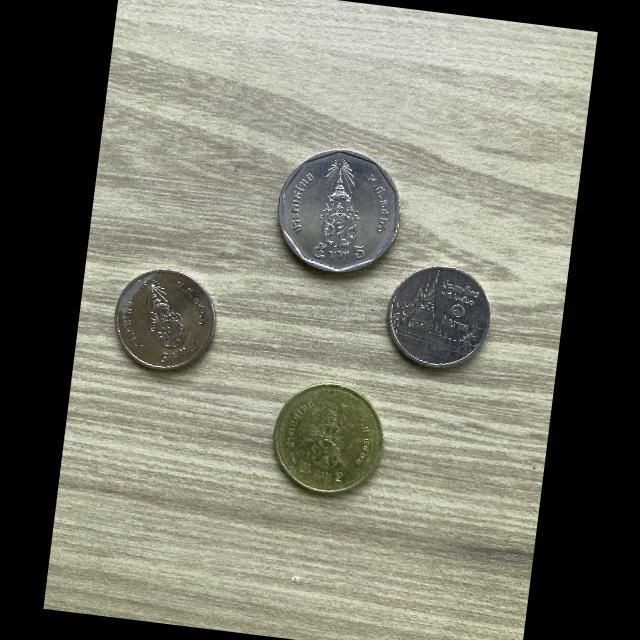1 Bath: (384, 264, 496, 373), (114, 266, 221, 376)
2 Bath: (271, 381, 387, 500)
5 Bath: (277, 147, 405, 277)
